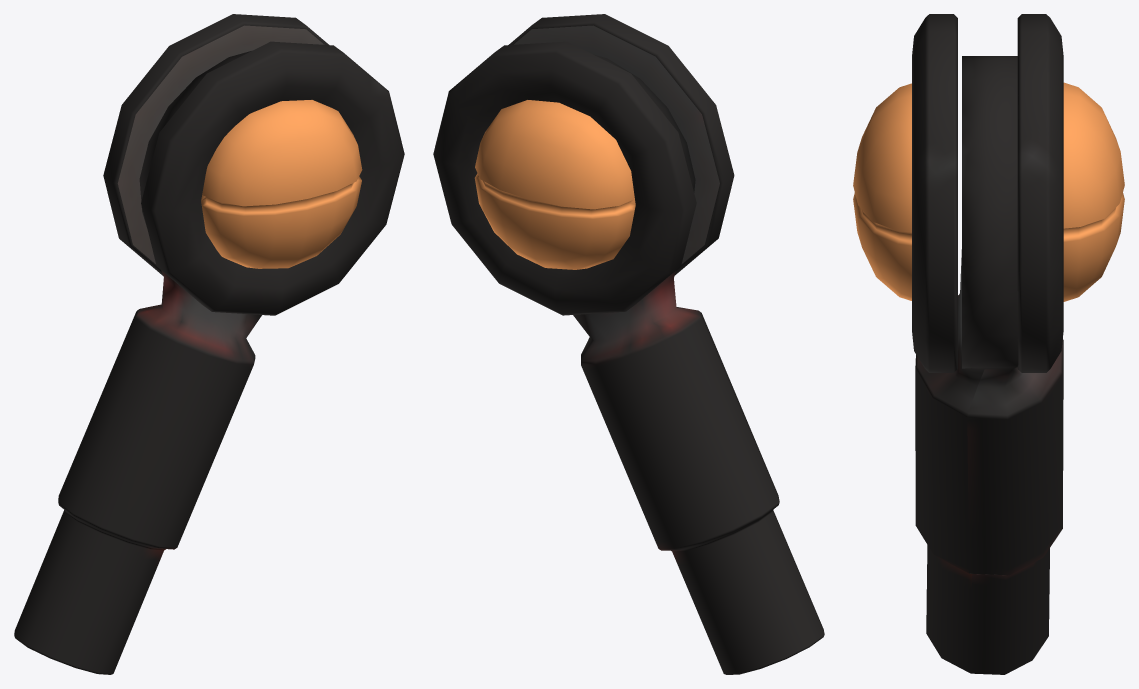
Rendered from arm_up_right.obj.
3 views of the same model, side by side, from view 1: azimuth 30°, elevation 25°; view 2: azimuth 150°, elevation 25°; view 3: azimuth 270°, elevation 25° (orthographic). The views are drawn at different scales.
Parts seen in each view (by area): view 1: arm_up_right arm_up_right, arm_up_right shoulder_plate_front_right, arm_up_right shoulder_screw_1_right pivot, shoulder_plate_back_right arm_up_right; view 2: arm_up_right arm_up_right, shoulder_plate_back_right arm_up_right, arm_up_right pivot shoulder_screw_2_right, arm_up_right shoulder_plate_front_right; view 3: arm_up_right arm_up_right, shoulder_plate_back_right arm_up_right, arm_up_right shoulder_plate_front_right, arm_up_right pivot shoulder_screw_2_right, arm_up_right shoulder_screw_1_right pivot.
Boxes of the visible parts, x1=… form: arm_up_right arm_up_right: x1=14, y1=51, x2=261, y2=674; arm_up_right shoulder_plate_front_right: x1=141, y1=41, x2=404, y2=315; arm_up_right shoulder_screw_1_right pivot: x1=201, y1=100, x2=362, y2=268; shoulder_plate_back_right arm_up_right: x1=103, y1=14, x2=328, y2=275; arm_up_right arm_up_right: x1=573, y1=54, x2=824, y2=674; shoulder_plate_back_right arm_up_right: x1=433, y1=41, x2=696, y2=315; arm_up_right pivot shoulder_screw_2_right: x1=474, y1=100, x2=635, y2=269; arm_up_right shoulder_plate_front_right: x1=509, y1=14, x2=734, y2=275; arm_up_right arm_up_right: x1=915, y1=56, x2=1063, y2=674; shoulder_plate_back_right arm_up_right: x1=1017, y1=14, x2=1063, y2=372; arm_up_right shoulder_plate_front_right: x1=912, y1=14, x2=957, y2=372; arm_up_right pivot shoulder_screw_2_right: x1=1063, y1=82, x2=1124, y2=301; arm_up_right shoulder_screw_1_right pivot: x1=853, y1=83, x2=911, y2=300.
Size of the model in its own units: 0.1862 by 0.2946 by 0.099.
Materials: 1 (1 with a texture image).
